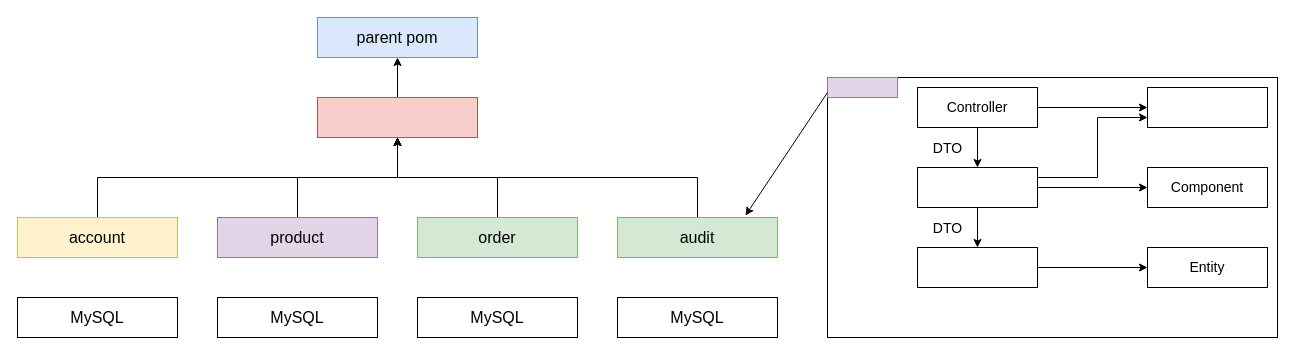
The diagram is 1295 pixels wide and 355 high, and some of its shapes have lost their labels. Here are the shapes that lost their labels. From the top down, the box of each, then its label:
(826, 76, 898, 98): Struture
(1146, 86, 1268, 128): Validator
(316, 96, 478, 138): core
(916, 166, 1038, 208): Service
(916, 246, 1038, 288): JPA repository
